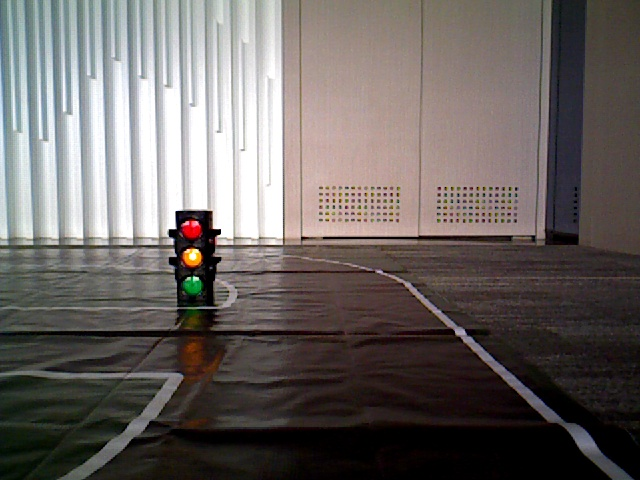yellow: (176, 216, 209, 294)
